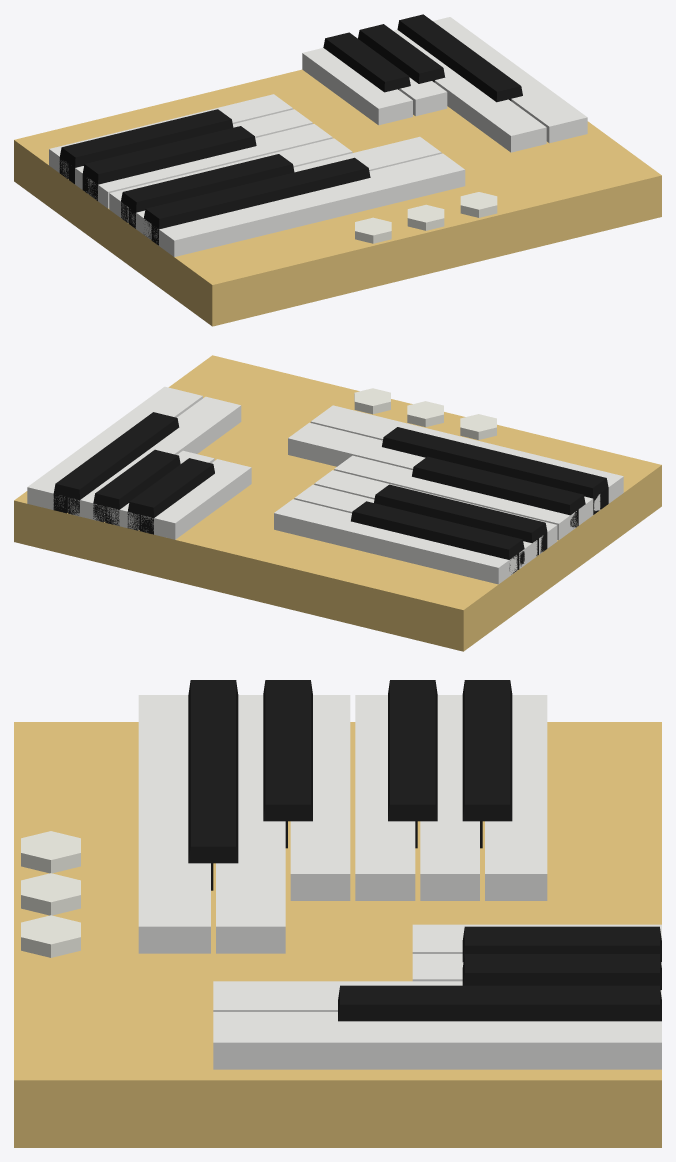
Rendered from stage3)terrain.fbx.
3 renders of one model, top to bottom at view 1: azimuth 30°, elevation 25°; view 2: azimuth 150°, elevation 25°; view 3: azimuth 270°, elevation 25°, orthographic. The views are drawn at different scales.
Visible parts, largest first — view 1: land, whtie1, black1, Rwhite3, black3, Rwhite4, black4, black2, Rblack3, Rwhite1, white4, Rblack1 (+9 smaller); view 2: land, white6, black1, black4, Rblack3, black2, black3, Rwhite3, white2, white3, Rwhite4, Rwhite1 (+9 smaller); view 3: land, Rwhite4, whtie1, Rblack3, white2, white3, white6, black1, white4, white5, black4, black3 (+9 smaller).
Boxes of the visible parts, left/top/right/bottom form: land: left=14, top=69, right=661, bottom=326; whtie1: left=153, top=153, right=465, bottom=256; black1: left=144, top=157, right=370, bottom=245; Rwhite3: left=393, top=29, right=546, bottom=152; black3: left=82, top=126, right=256, bottom=200; Rwhite4: left=433, top=17, right=587, bottom=143; black4: left=59, top=109, right=233, bottom=183; black2: left=121, top=154, right=294, bottom=228; Rblack3: left=397, top=14, right=522, bottom=102; Rwhite1: left=302, top=48, right=412, bottom=125; white4: left=89, top=124, right=332, bottom=208; Rblack1: left=323, top=32, right=410, bottom=92; land: left=14, top=355, right=661, bottom=651; white6: left=274, top=499, right=517, bottom=584; black1: left=382, top=427, right=608, bottom=514; black4: left=351, top=501, right=524, bottom=574; Rblack3: left=53, top=412, right=179, bottom=515; black2: left=412, top=456, right=585, bottom=527; black3: left=374, top=484, right=547, bottom=555; Rwhite3: left=68, top=396, right=241, bottom=521; white2: left=288, top=422, right=600, bottom=525; white3: left=334, top=455, right=577, bottom=540; Rwhite4: left=27, top=386, right=202, bottom=509; Rwhite1: left=141, top=459, right=251, bottom=539; land: left=14, top=722, right=661, bottom=1147; Rwhite4: left=213, top=1012, right=661, bottom=1069; whtie1: left=138, top=695, right=210, bottom=953; Rblack3: left=338, top=985, right=661, bottom=1021; white2: left=216, top=695, right=285, bottom=953; white3: left=290, top=695, right=350, bottom=900; white6: left=485, top=695, right=547, bottom=900; black1: left=188, top=680, right=238, bottom=890; white4: left=355, top=695, right=415, bottom=900; white5: left=420, top=695, right=479, bottom=900; black4: left=462, top=680, right=512, bottom=848; black3: left=388, top=680, right=437, bottom=848.
Bounding box in the file's own units: 170 × 24.5 × 130.
